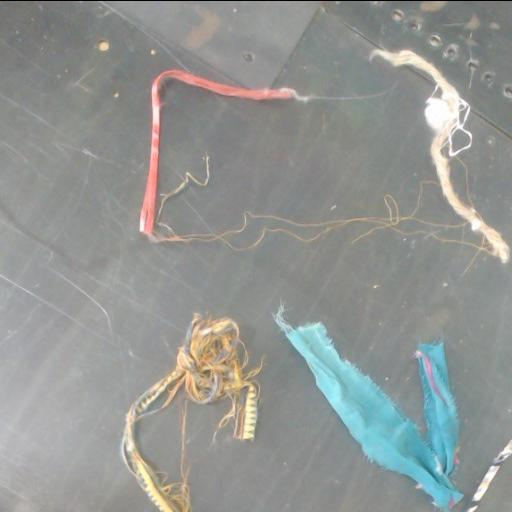cloth: (276, 311, 463, 509), (121, 314, 258, 512), (139, 69, 294, 240), (466, 440, 511, 512)
conveyor belt: (0, 1, 511, 512), (463, 120, 511, 238), (140, 403, 178, 478), (479, 460, 511, 512)
jute: (370, 49, 509, 262)
